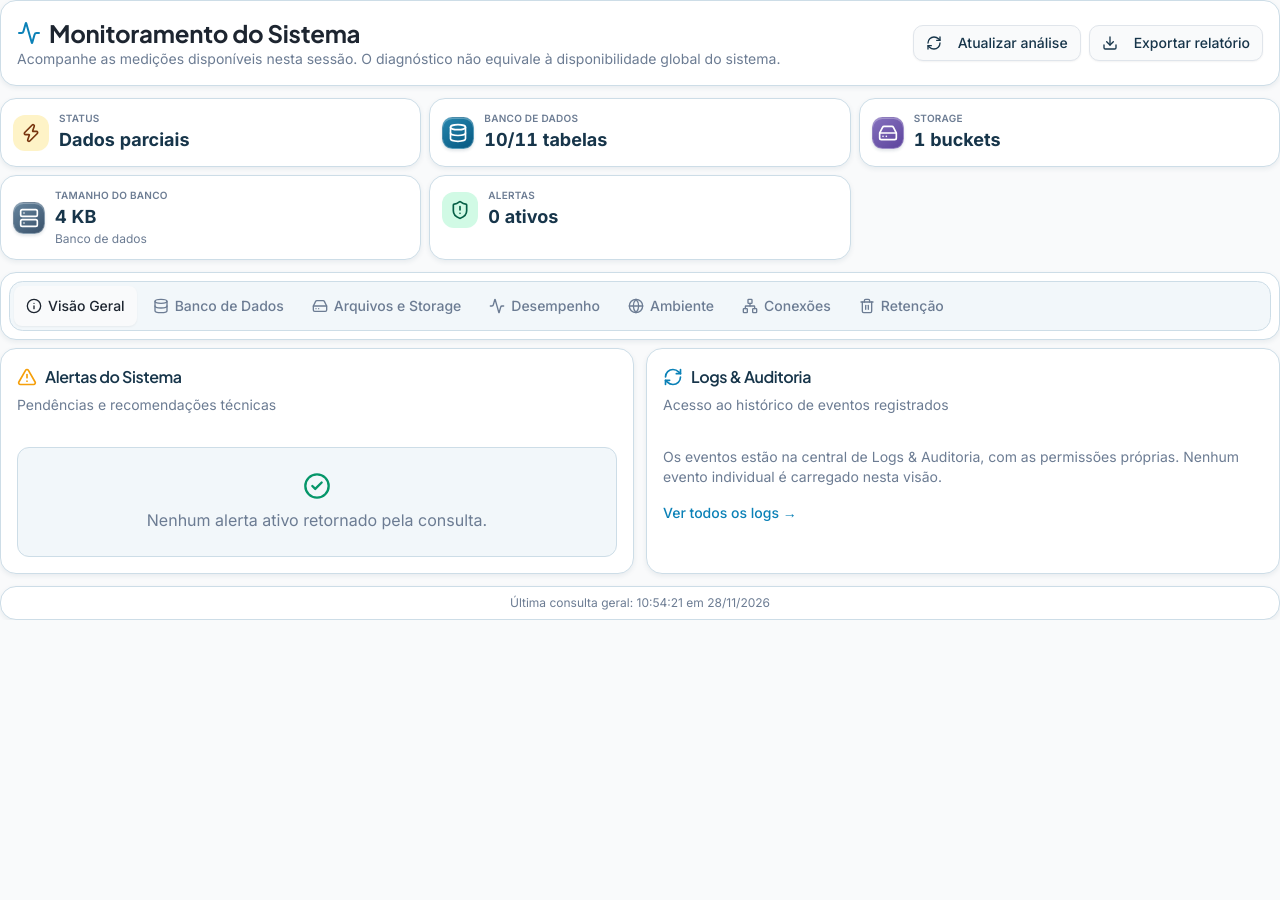
Scenario: Monitoramento do Sistema › calcula o saldo somente após receber um limite informado pelo usuário
The width and height of the screenshot is (1280, 900).
Expected: the text "1 buckets" is shown, [914,129,1001,150]
Press the mouse on the tab "Arquivos e Storage" at (387, 306), box [300,286,473,326]
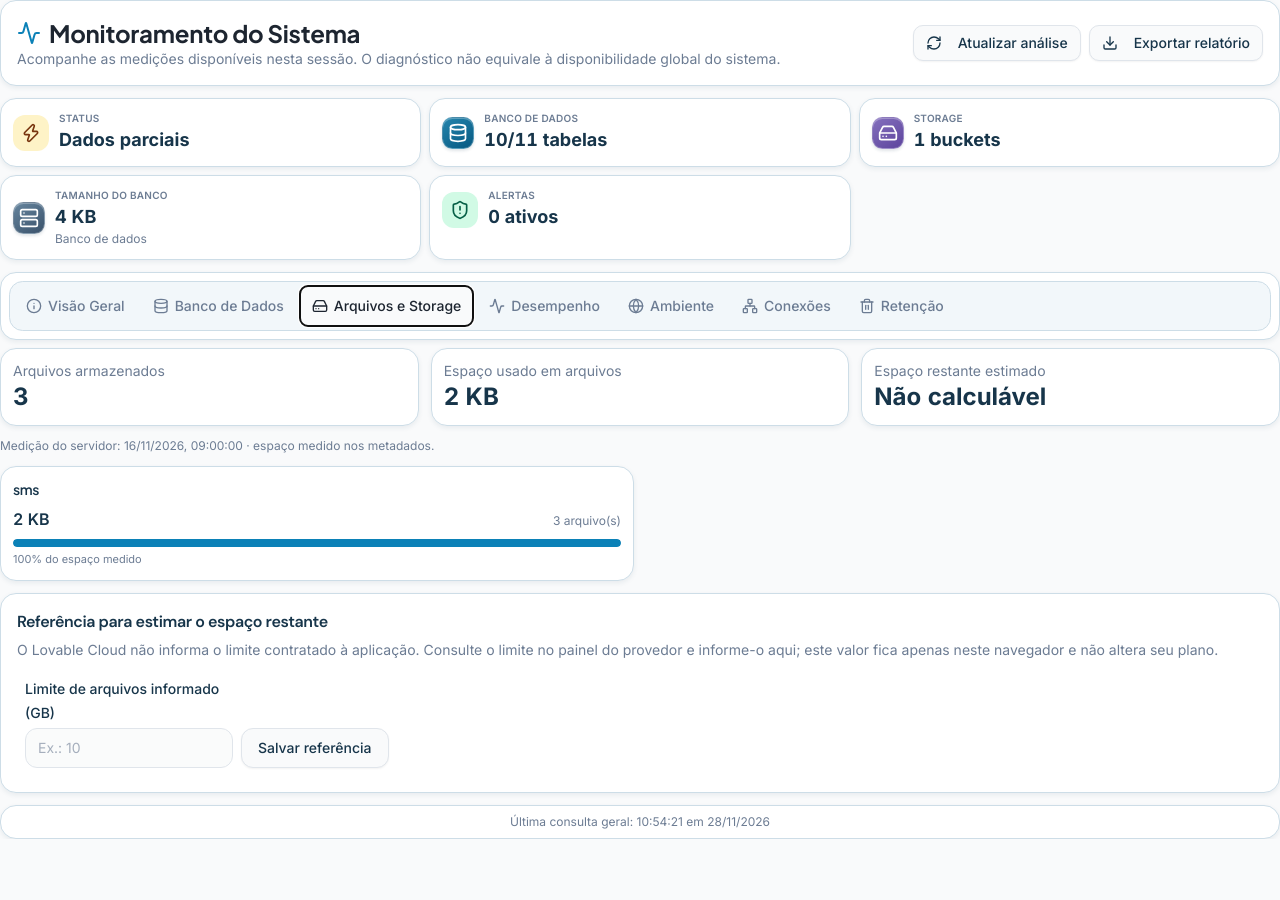
Expected: the text "Não calculável" is shown, [874,382,1046,411]
Type "1" into the number field labelled "Limite de arquivos informado (GB)" at (129, 748), box [25,728,233,768]
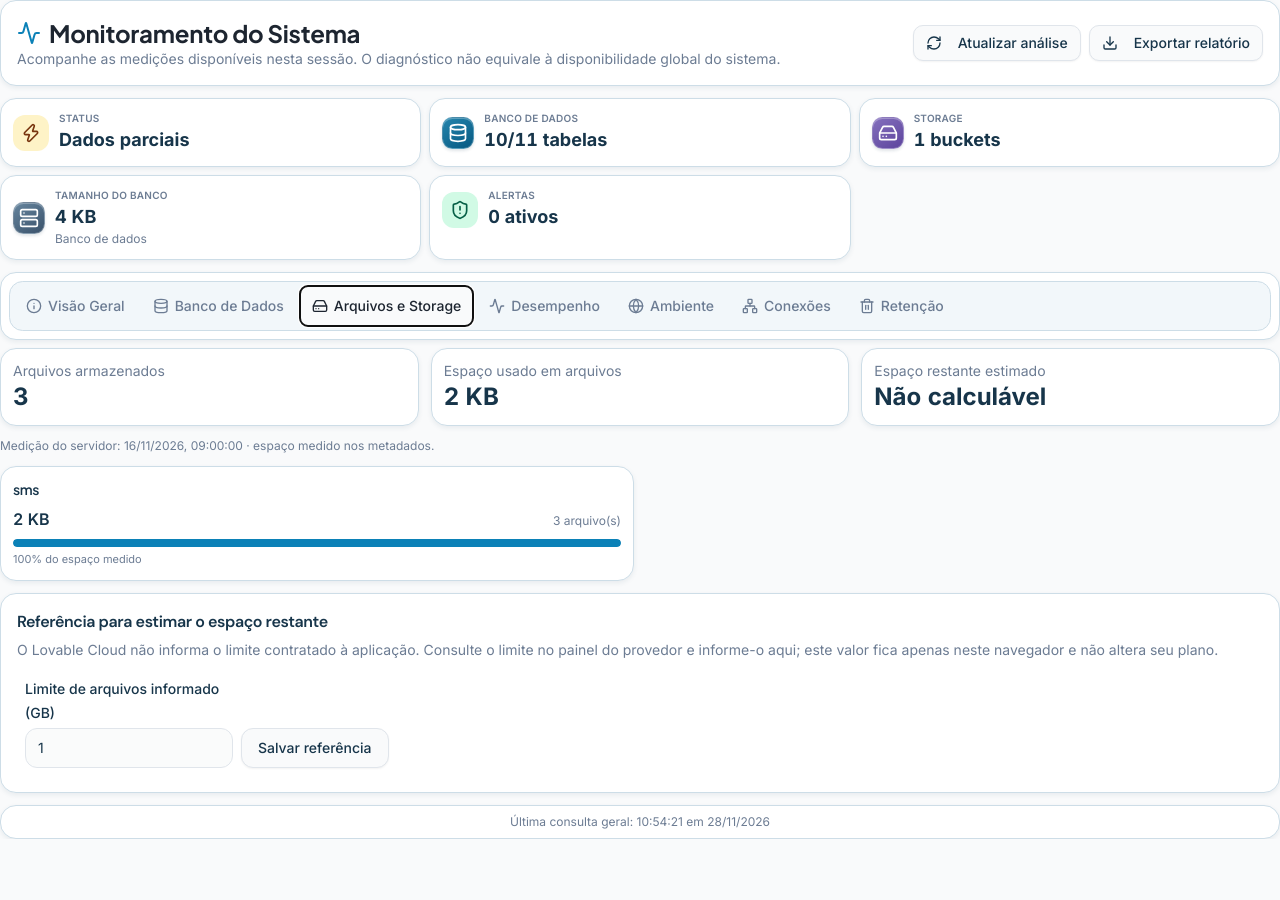
Click the button "Salvar referência" at (315, 748), box [241,728,388,768]
(page scrolled)
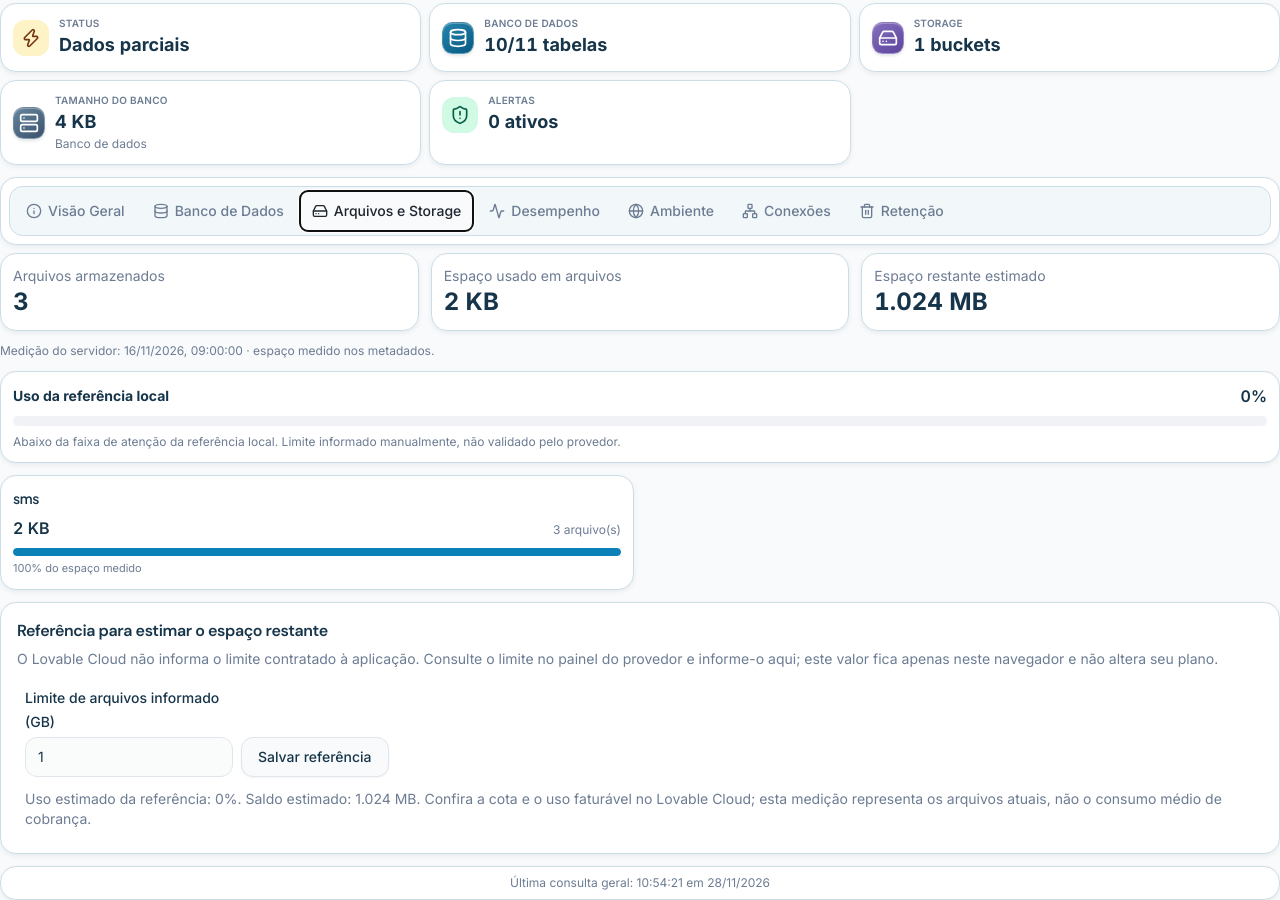
Expected: the text "Não calculável" is gone
Expected: the text "Saldo estimado:" is shown, [224,790,355,806]
